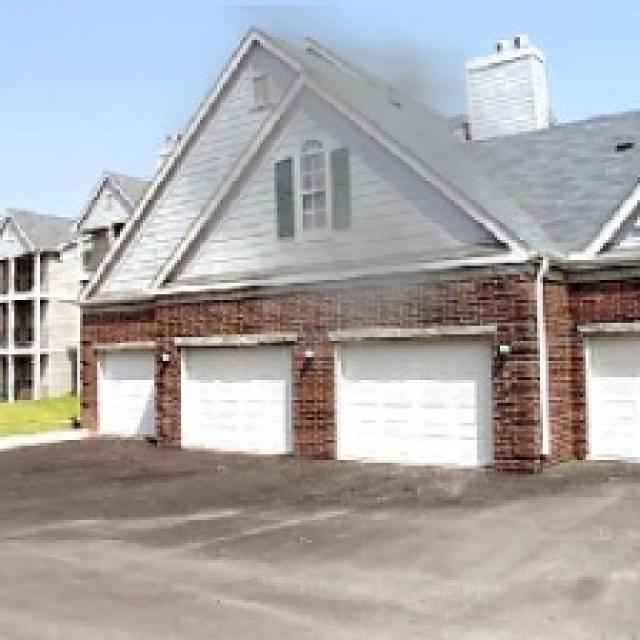Smoke: (148, 6, 548, 400)
